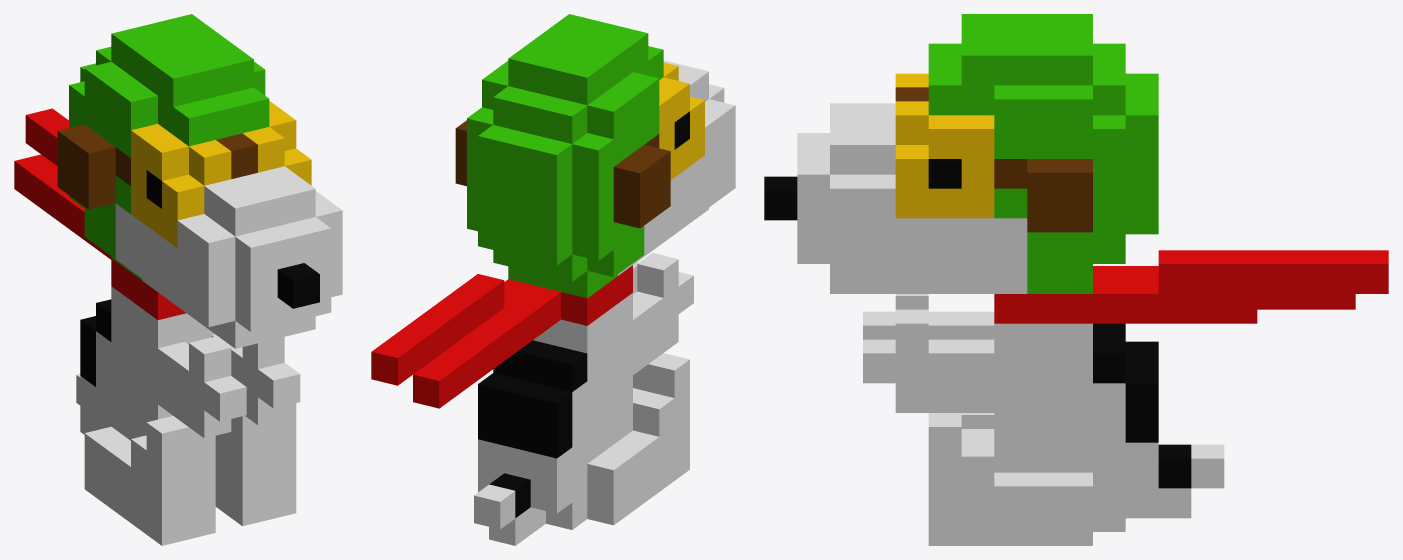
The model's file is Snoopy.glb.
3 renders of one model, left to right at view 1: azimuth 30°, elevation 25°; view 2: azimuth 150°, elevation 25°; view 3: azimuth 270°, elevation 25°, orthographic. The views are drawn at different scales.
Parts seen in each view (by area): view 1: Node1; view 2: Node1; view 3: Node1.
Part boxes in pixels (bbox=[...]): Node1: bbox=[14, 14, 342, 545]; Node1: bbox=[371, 14, 735, 545]; Node1: bbox=[764, 14, 1388, 545].
Size of the model in its own units: 0.7 by 1.6 by 1.9.
1 material, 1 textured.
